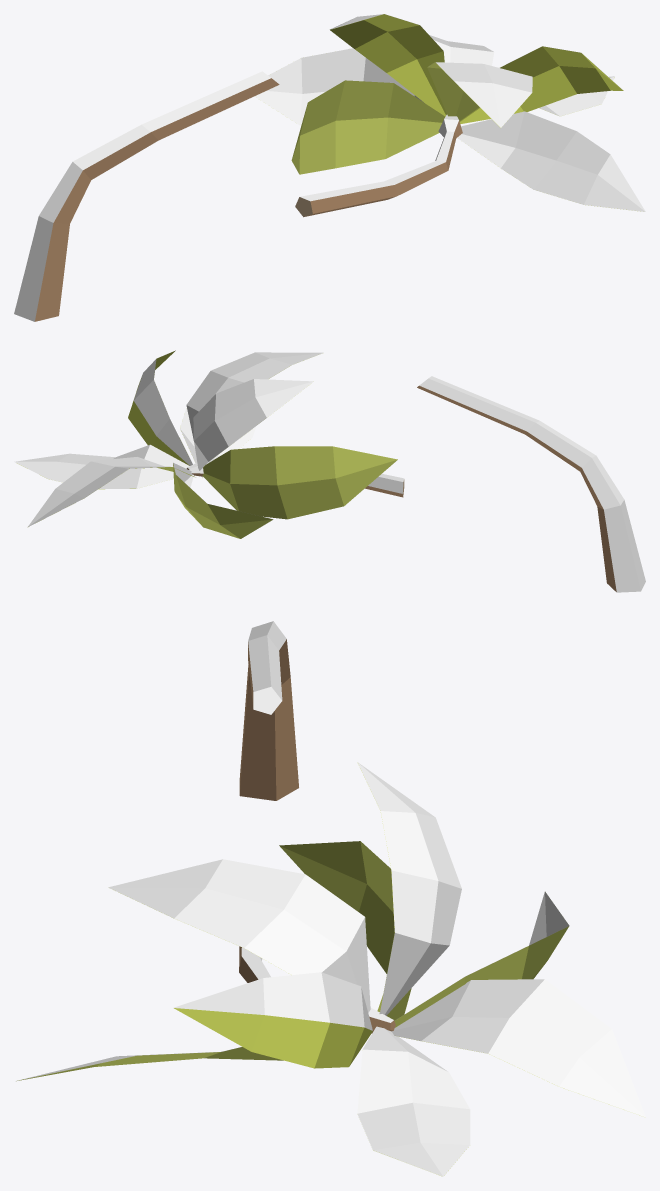
File: Palm_Tree_crk_l_Snow_BT_04.fbx
3 renders of one model, top to bottom at view 1: azimuth 30°, elevation 25°; view 2: azimuth 150°, elevation 25°; view 3: azimuth 270°, elevation 25°, orthographic. The views are drawn at different scales.
Parts seen in each view (by area): view 1: Palm_Tree_crk_l_Snow_BT_04; view 2: Palm_Tree_crk_l_Snow_BT_04; view 3: Palm_Tree_crk_l_Snow_BT_04.
Part boxes in pixels (<box>): Palm_Tree_crk_l_Snow_BT_04: <box>14,14,645,321</box>; Palm_Tree_crk_l_Snow_BT_04: <box>14,350,645,592</box>; Palm_Tree_crk_l_Snow_BT_04: <box>16,621,645,1176</box>.
Bounding box in the file's own units: 873 × 232 × 522.
